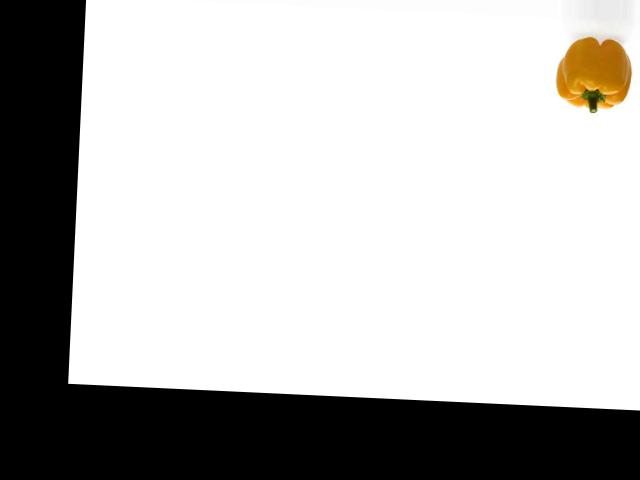bell_pepper: (549, 33, 632, 117)
